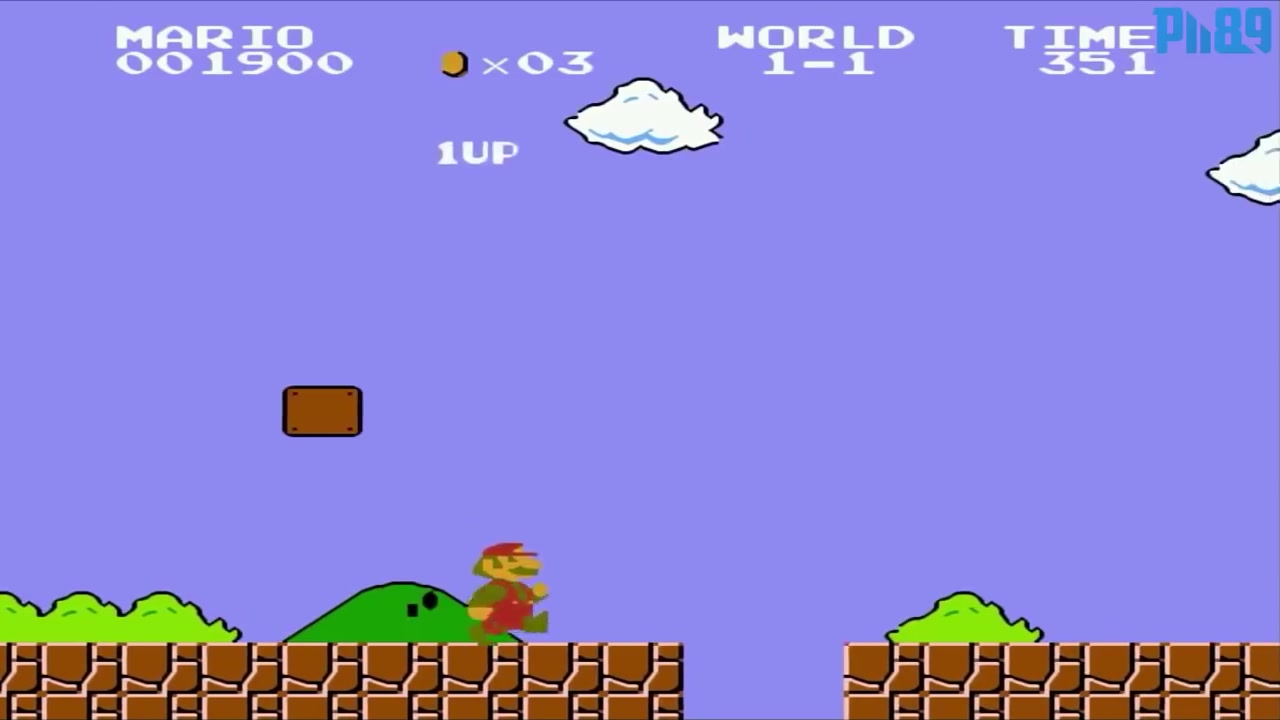mario: (455, 538, 552, 644)
